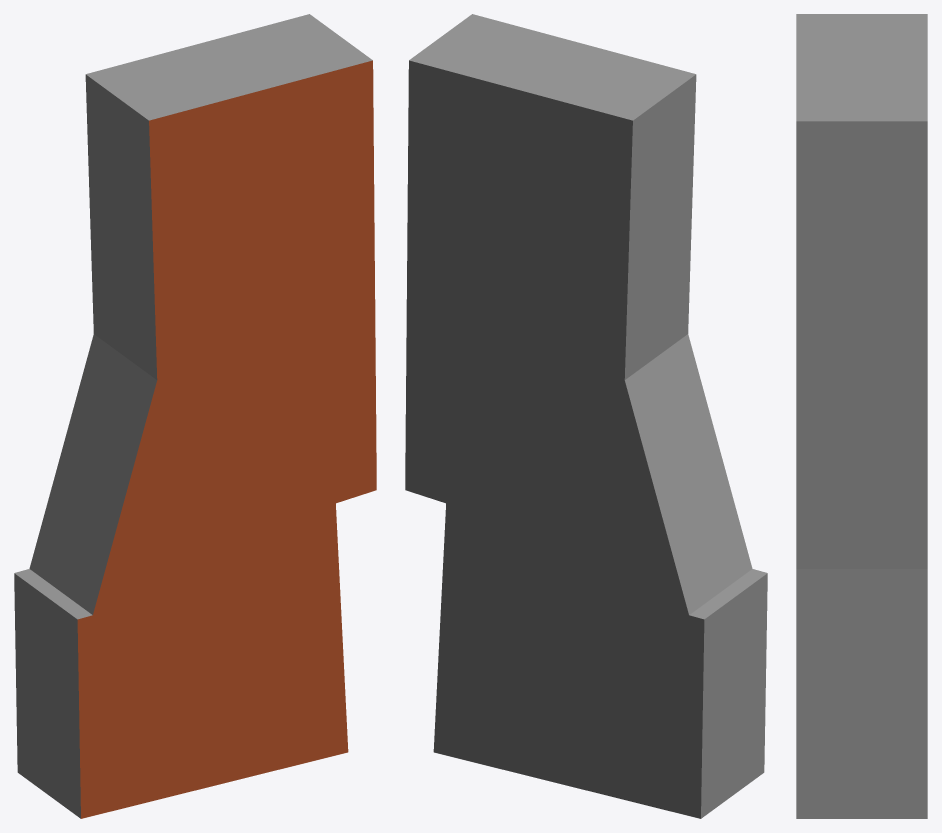
Rendered from construction_3626_assumed_A_Casa_h6m.obj.
The picture shows the model from 3 angles, left to right: view 1: azimuth 30°, elevation 25°; view 2: azimuth 150°, elevation 25°; view 3: azimuth 270°, elevation 25°; orthographic projection. The views are drawn at different scales.
Visible parts, largest first — view 1: construction_3626_assumed_A_Casa; view 2: construction_3626_assumed_A_Casa; view 3: construction_3626_assumed_A_Casa.
Boxes of the visible parts, x1=… form: construction_3626_assumed_A_Casa: x1=14, y1=14, x2=376, y2=818; construction_3626_assumed_A_Casa: x1=405, y1=14, x2=767, y2=818; construction_3626_assumed_A_Casa: x1=796, y1=14, x2=927, y2=818.
Bounding box in the file's own units: 16.34 × 35.88 × 6.
